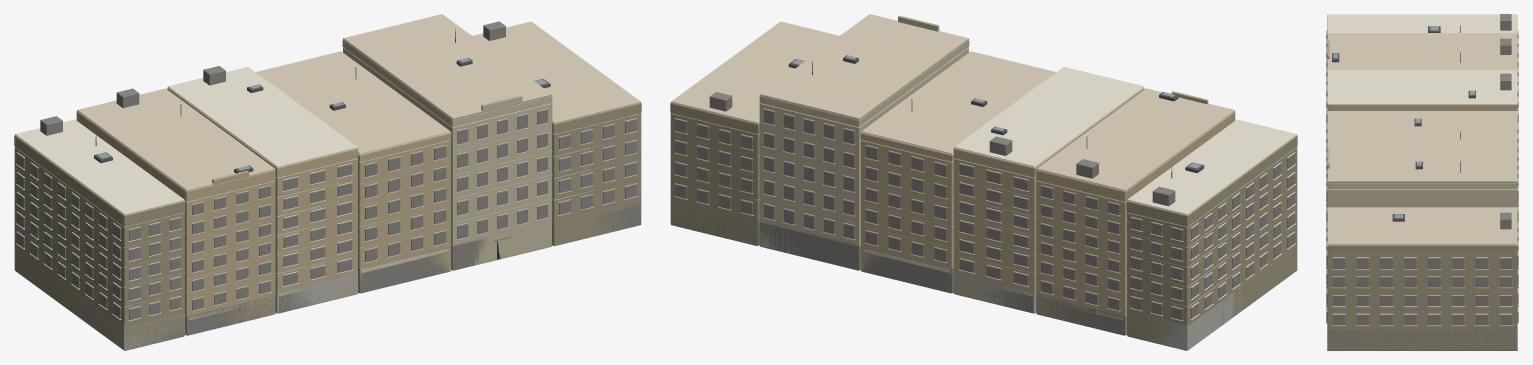
Rendered from VG_Bld_Downtown_10.fbx.
3 views of the same model, side by side, from view 1: azimuth 30°, elevation 25°; view 2: azimuth 150°, elevation 25°; view 3: azimuth 270°, elevation 25° (orthographic). The views are drawn at different scales.
Parts seen in each view (by area): view 1: VG_Bld_Downtown_10_Body; view 2: VG_Bld_Downtown_10_Body; view 3: VG_Bld_Downtown_10_Body.
Part boxes in pixels (x1=…): VG_Bld_Downtown_10_Body: x1=14, y1=14, x2=641, y2=350; VG_Bld_Downtown_10_Body: x1=670, y1=14, x2=1297, y2=350; VG_Bld_Downtown_10_Body: x1=1326, y1=14, x2=1518, y2=350.
Bounding box in the file's own units: 100 × 30.64 × 37.
